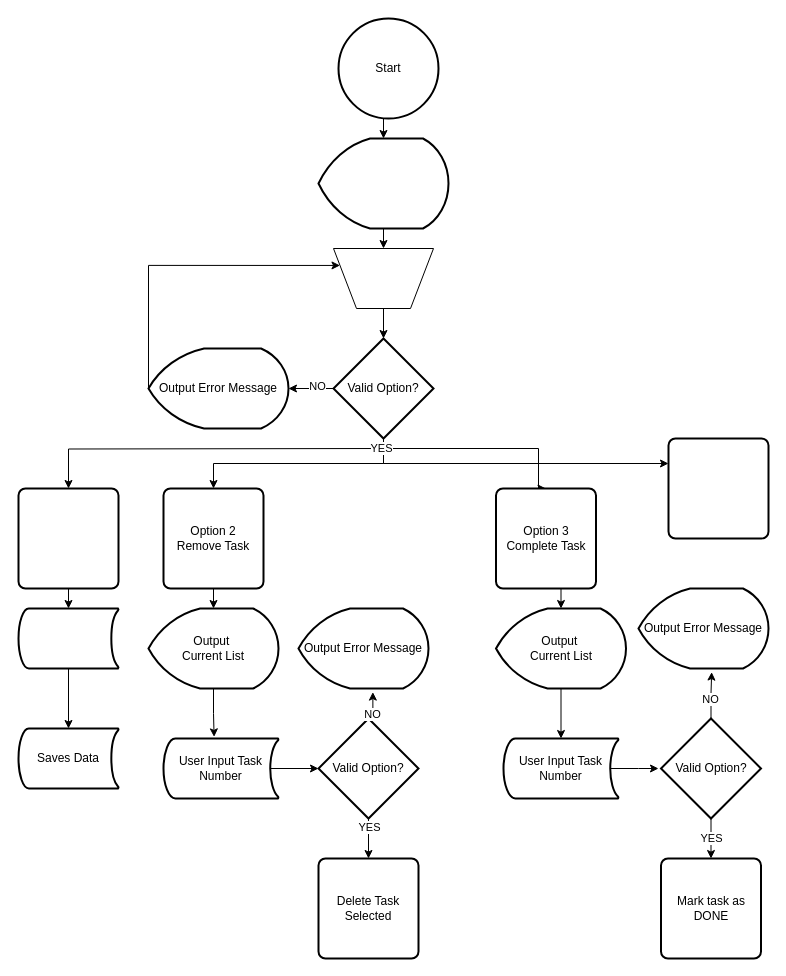
The diagram is 786 pixels wide and 976 high, and some of its shapes have lost their labels. The centre of each missing label's shape, as x and y in pixels:
Display To-Do List: (x=383, y=183)
Input Option: (x=383, y=278)
Option 1 Add Task: (x=68, y=538)
Option 4 Exit Program: (x=718, y=488)
User Input ADD Task: (x=68, y=638)
